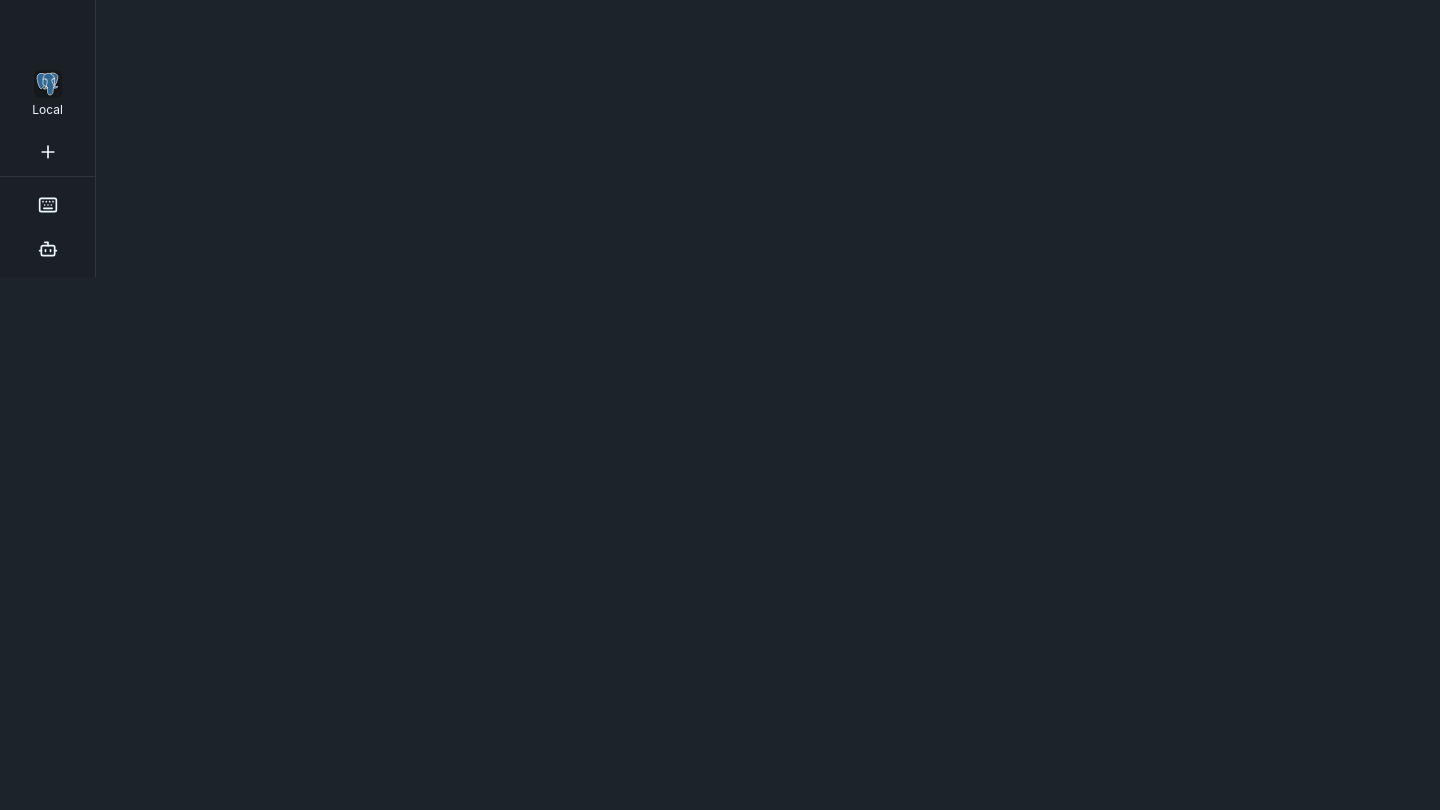
Scenario: the connection rail › names the failure a test hit, rather than a message of its own
Click the button "Local" at point(48, 94), box [8,56,87,132]
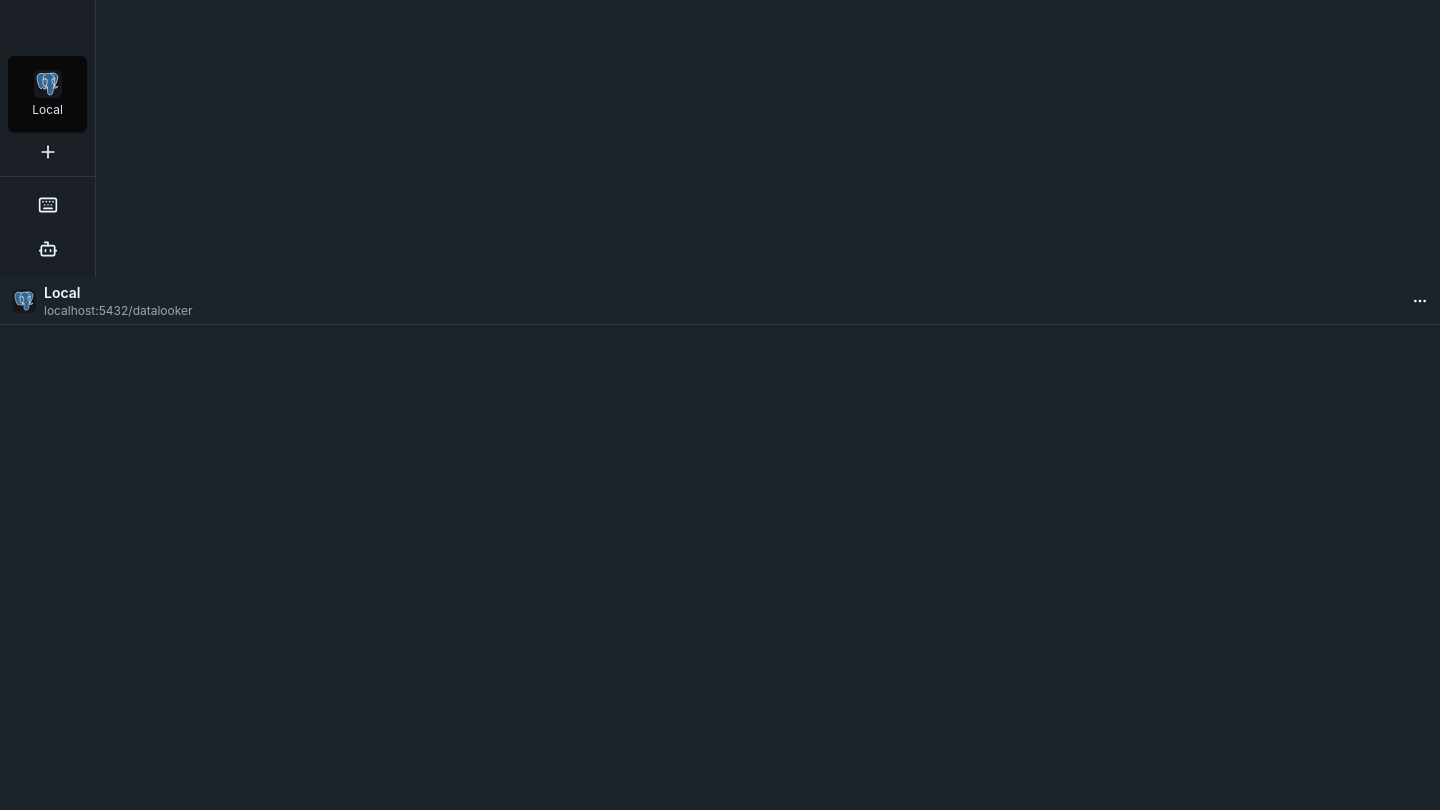
Click the button named "Local actions" at point(1420, 300), box [1408,288,1432,312]
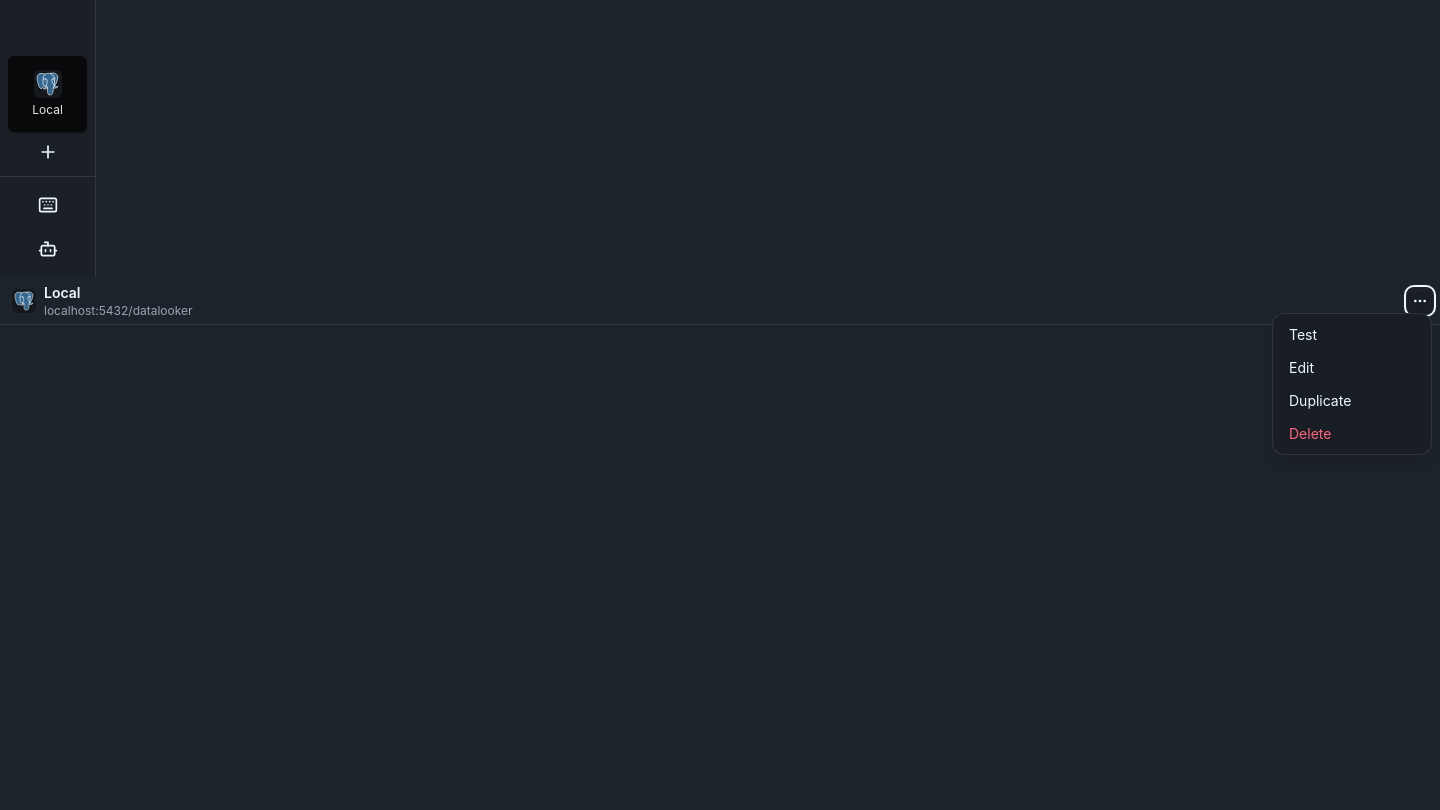
Click the button "Test" at point(1352, 334), box [1277,318,1427,350]
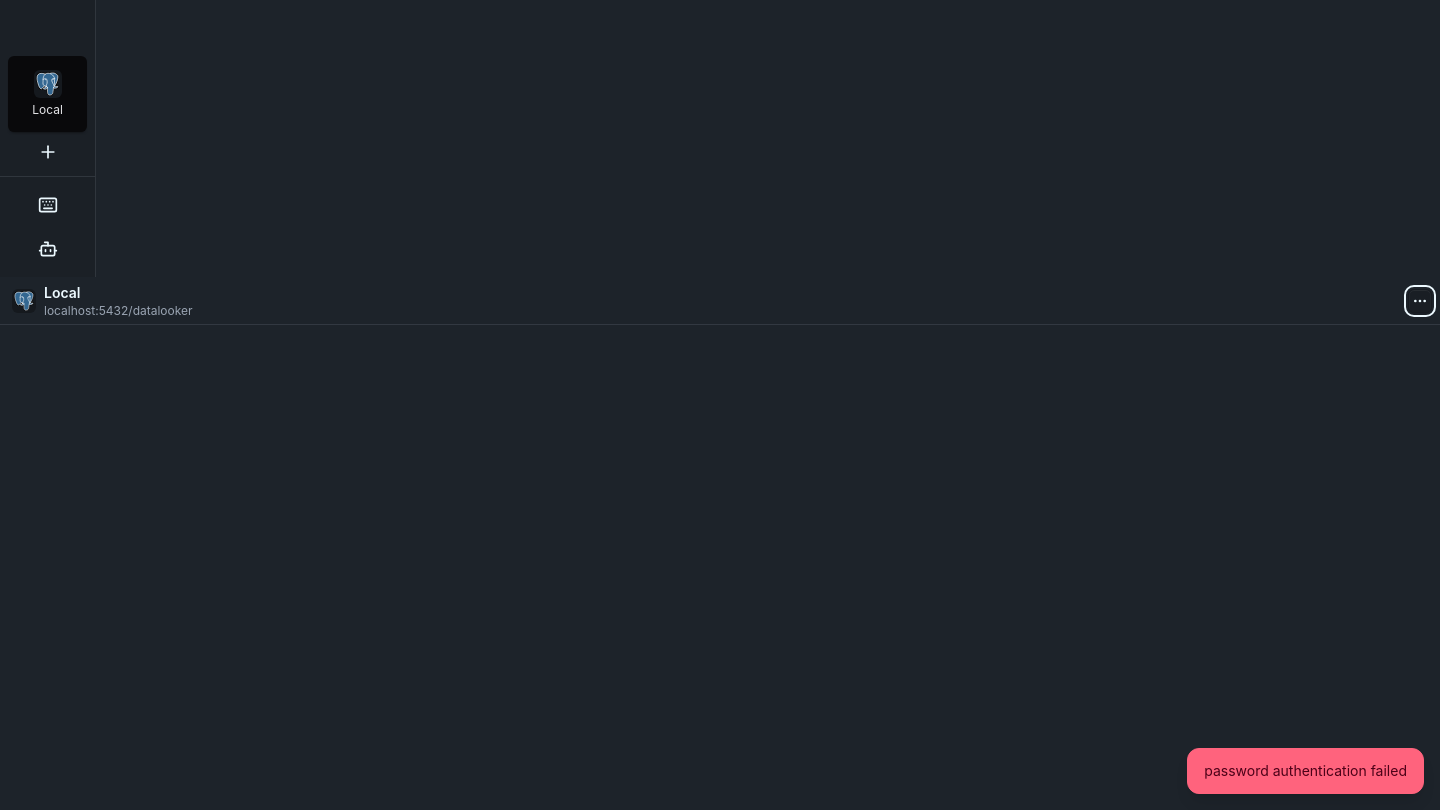
expect the text "password authentication failed" is shown: met, box [1204,761,1407,781]
